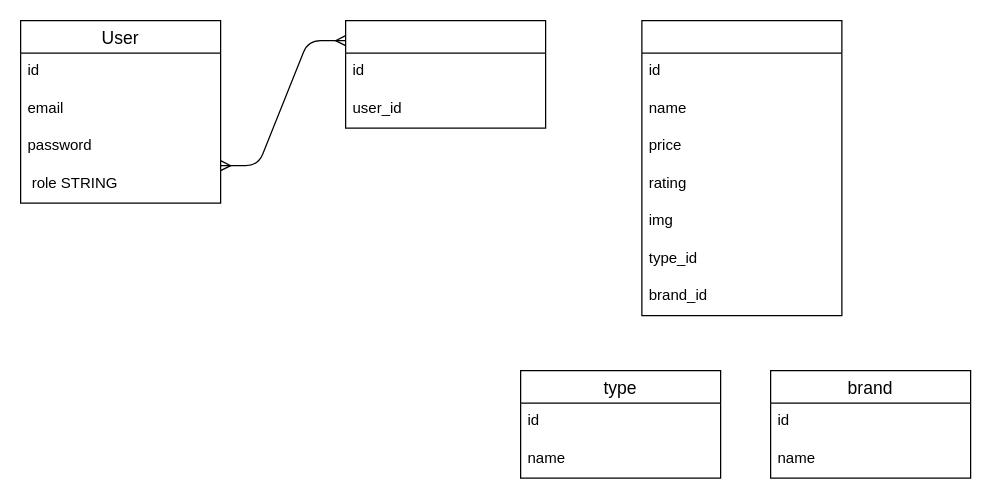
The diagram is 991 pixels wide and 499 high, and some of its shapes have lost their labels. Each missing label, with the box of its shape:
basket: (344, 19, 546, 128)
device: (641, 19, 842, 316)
